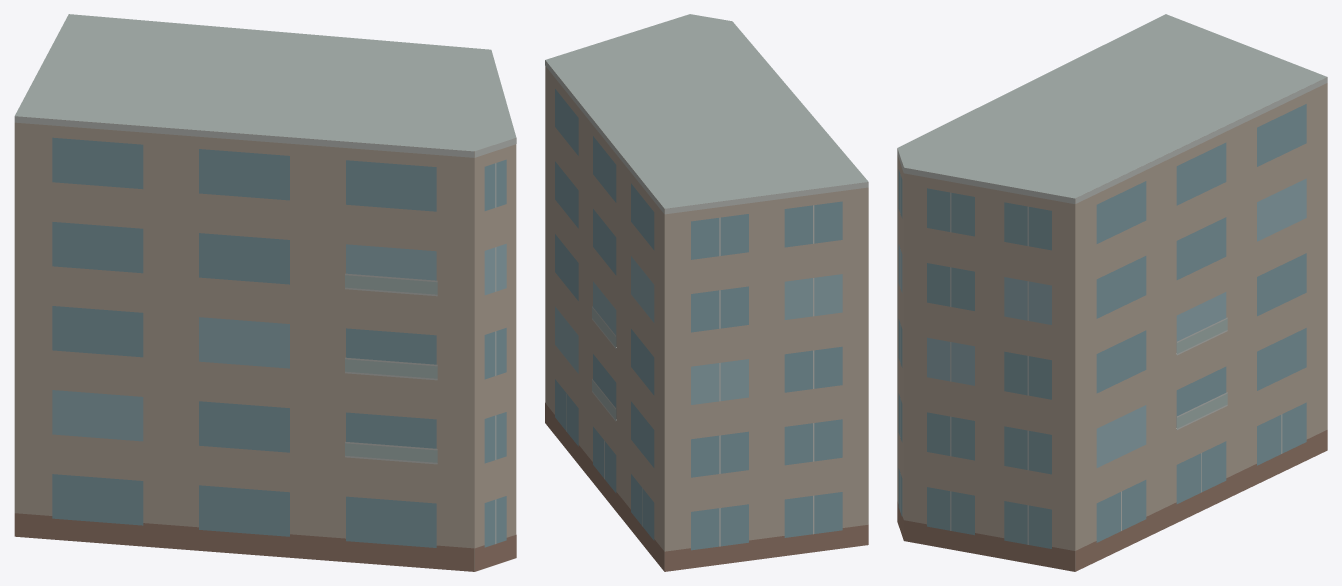
The model's file is survey-upis-32504833.glb.
The picture shows the model from 3 angles, left to right: view 1: azimuth 30°, elevation 25°; view 2: azimuth 150°, elevation 25°; view 3: azimuth 270°, elevation 25°; orthographic projection. The views are drawn at different scales.
Visible parts, largest first — view 1: survey-upis-32504833.tmp; view 2: survey-upis-32504833.tmp; view 3: survey-upis-32504833.tmp.
Part boxes in pixels (x1,y1,x2,y2): survey-upis-32504833.tmp: (14, 14, 516, 571); survey-upis-32504833.tmp: (545, 14, 868, 571); survey-upis-32504833.tmp: (897, 14, 1327, 571).
Bounding box in the file's own units: 16.86 × 15.9 × 16.62.
